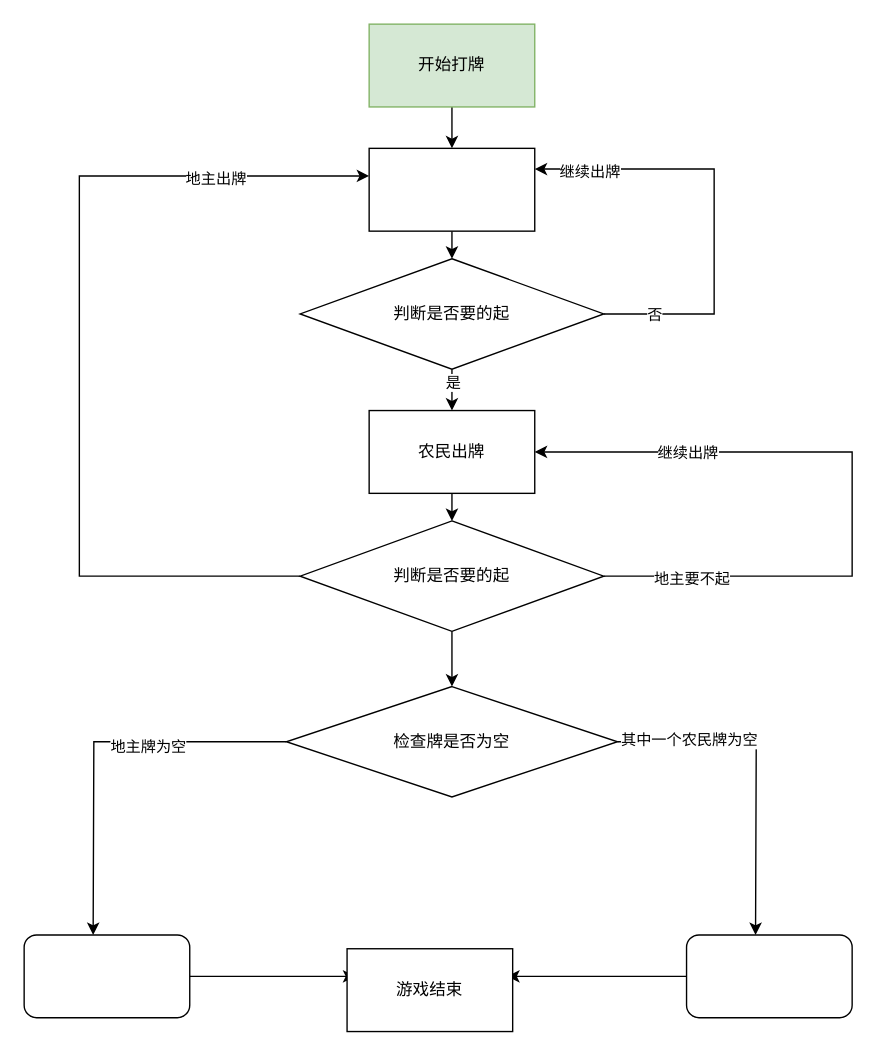
This 887x1056 diagram has some shape labels left out. The shapes that lost their labels are listed below. From the top down, each one's centre as x and y in pixels, then its label:
At (451,189): "地主先出牌".
At (106,976): "地主胜利".
At (768,976): "农民胜利".
